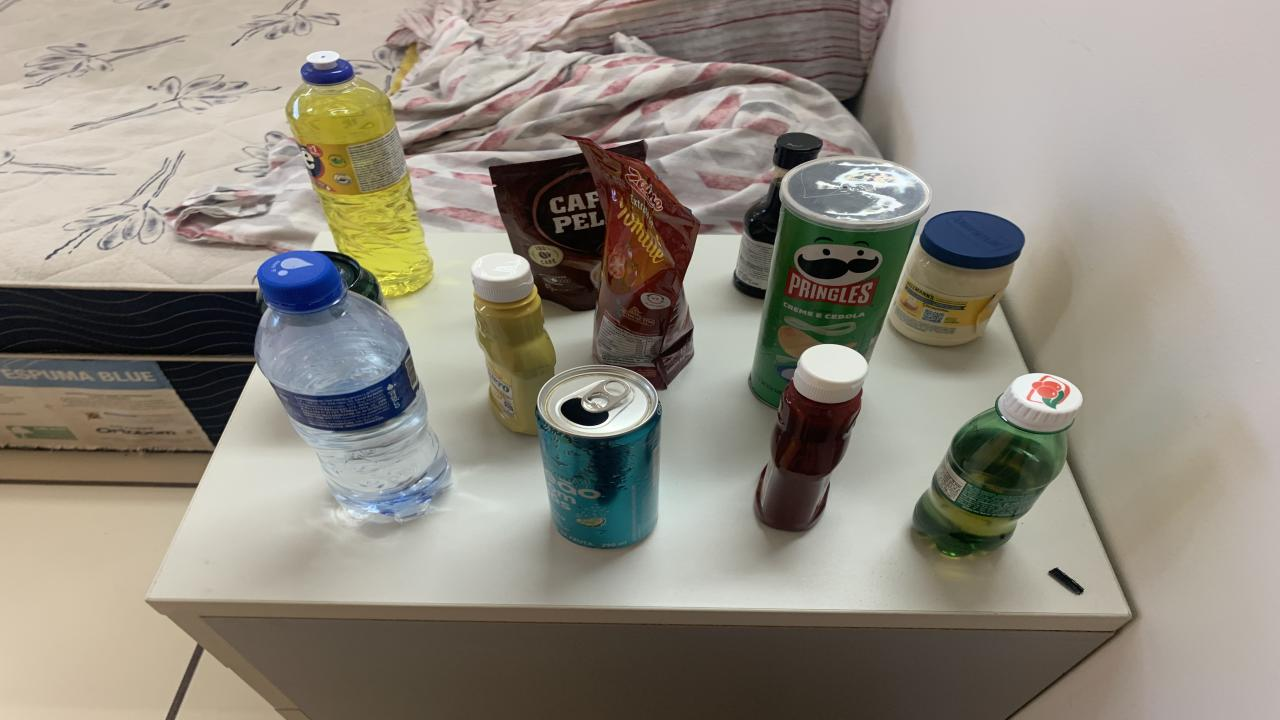Coffee-Pantry_Items: (490, 154, 605, 309), (612, 141, 648, 161)
Detergent-Cleanup_Items: (285, 51, 432, 296)
English_Sauce-Pantry_Items: (732, 133, 822, 298)
Guarana-Drinks: (912, 373, 1082, 555)
Guarana_Can-Drinks: (320, 251, 385, 308)
Ketchup-Pantry_Items: (752, 156, 930, 405), (755, 345, 868, 531)
Mayonnaise-Pantry_Items: (890, 210, 1025, 345)
Mustard-Pantry_Items: (470, 253, 555, 435)
Pringles-Snacks: (750, 156, 930, 407)
Tea-Drinks: (538, 366, 660, 549)
Tomato_Sauce-Pantry_Items: (572, 137, 700, 390)
Water_Bottle-Drinks: (255, 251, 450, 518)
